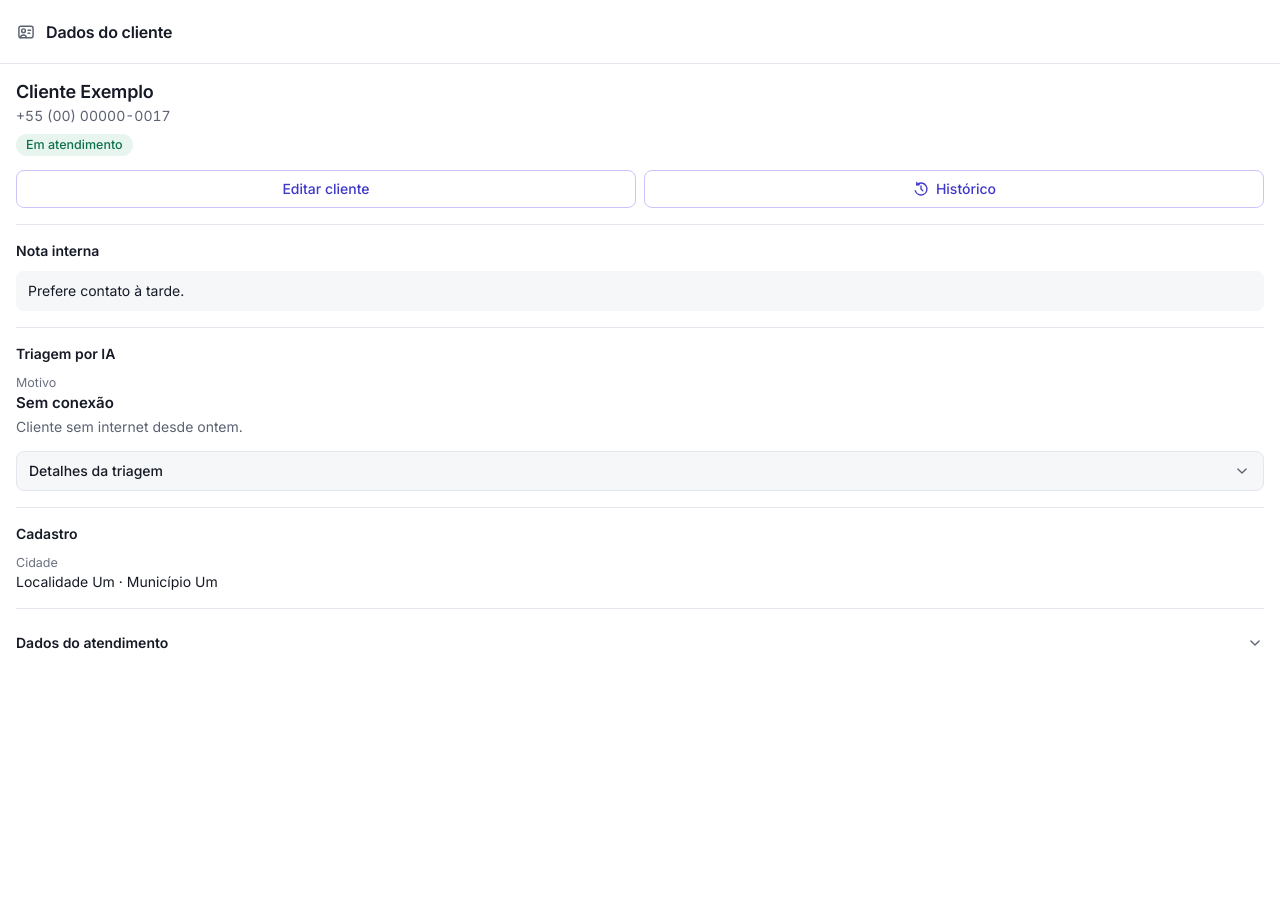
Test: PainelDadosCliente — triagem › identificação phone aparece como "telefone"
This screenshot has width=1280, height=900.
Click the button "Detalhes da triagem". click: (96, 470)
box: [16,451,1264,491]
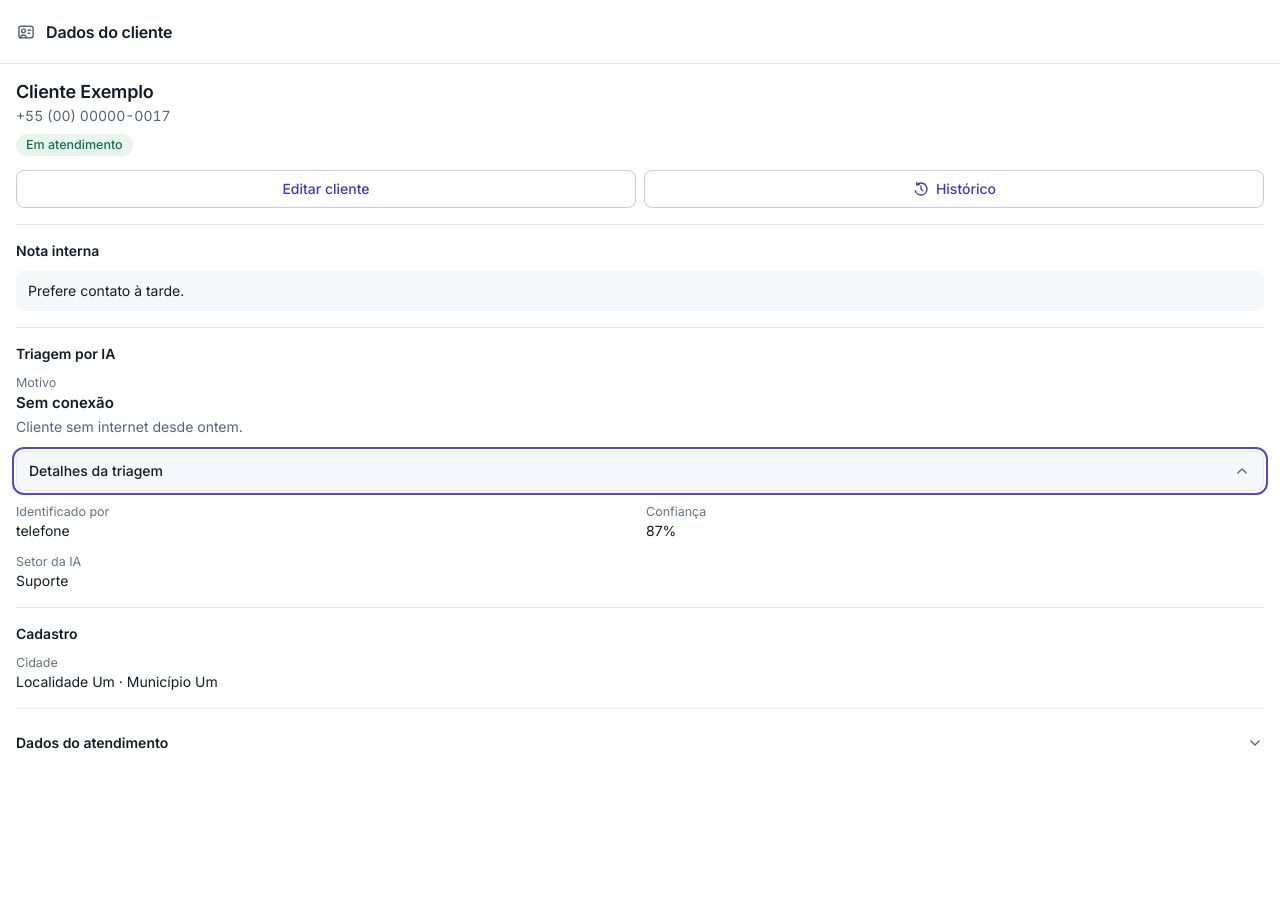
Now the text "telefone" is shown, box [16,522,70,539]
